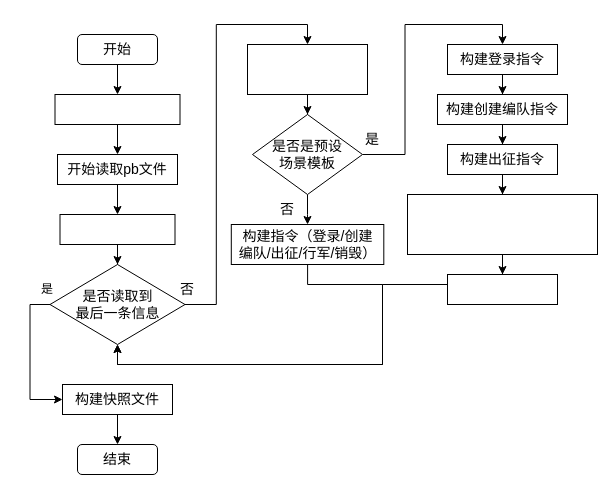
Image size: 615x492. Some labels were removed from this diagram. The shapes that lost their labels are listed below. From the top down, each one's centre as x and y in pixels, then its label:
(307,69): 由注册的静态方法进入对应模块处理
(117,109): 实例化指令计时器
(117,229): 初始化快照信息
(502,224): 根据对冲场景、聚集场景、窄路场景、随机战场、量化行军等不同于设场景构建行军指令
(502,289): 构建销毁指令
